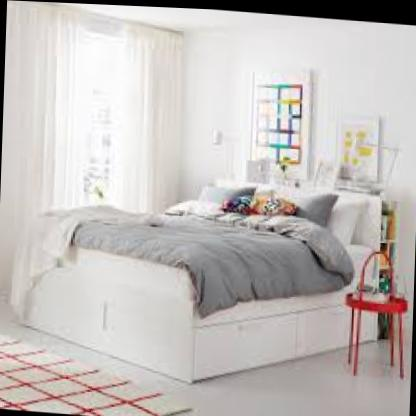Bed: (13, 153, 384, 380)
Curtains: (0, 4, 182, 295)
